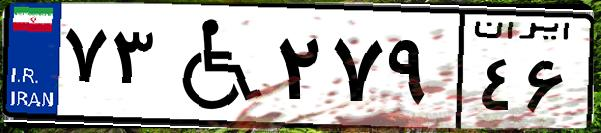2: (270, 28, 330, 110)
3: (110, 28, 158, 98)
4: (475, 38, 525, 113)
6: (525, 38, 570, 115)
7: (330, 28, 385, 110), (57, 26, 110, 100)
9: (385, 28, 445, 110)
ژ (معلولین و جانبازان): (158, 12, 270, 120)
